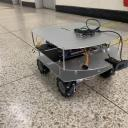cart: (30, 22, 124, 98)
